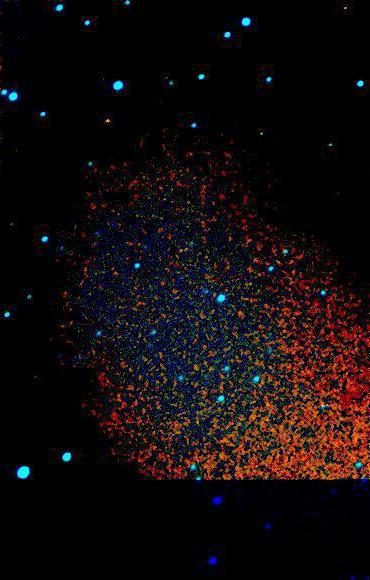star: (94, 105, 124, 135)
